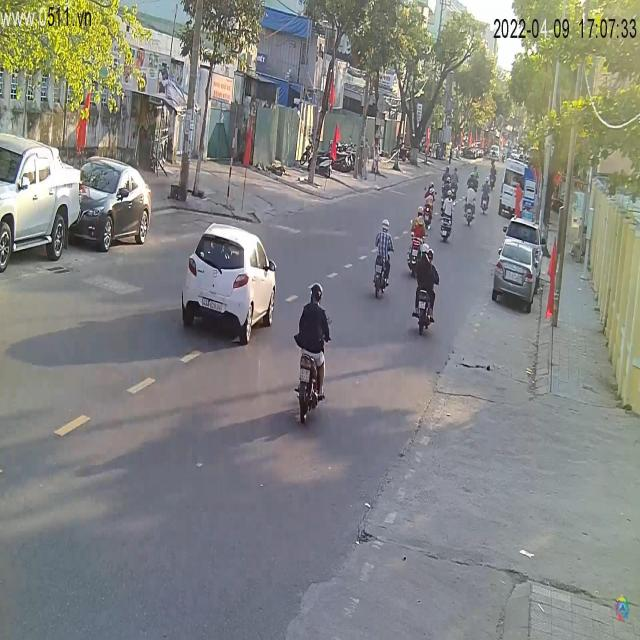car: (1, 130, 82, 278), (180, 225, 278, 346), (72, 158, 155, 253), (492, 239, 542, 312)
motorcycle: (292, 318, 328, 429), (370, 236, 392, 300), (415, 289, 436, 337), (438, 202, 454, 247), (465, 190, 477, 228)
